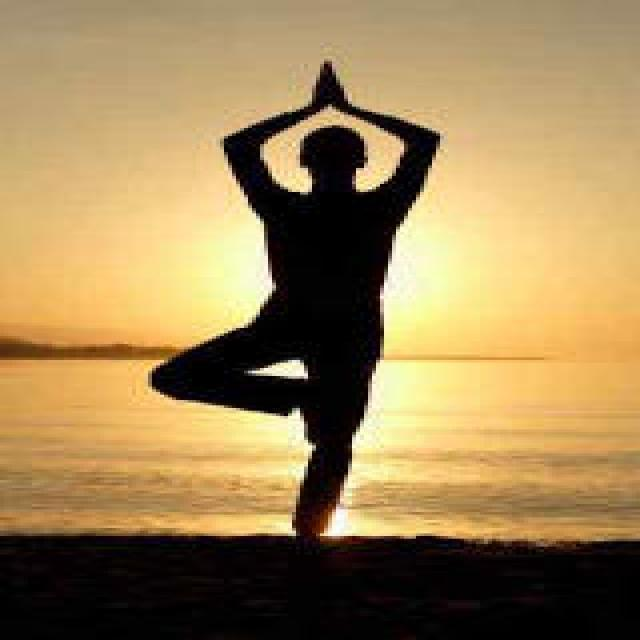yoga-pose tree: (153, 54, 440, 553)
